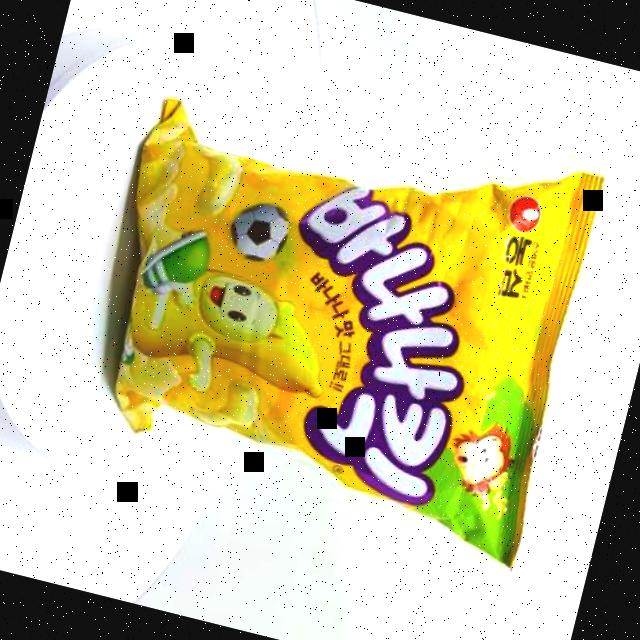snack_bag: (42, 51, 630, 591)
